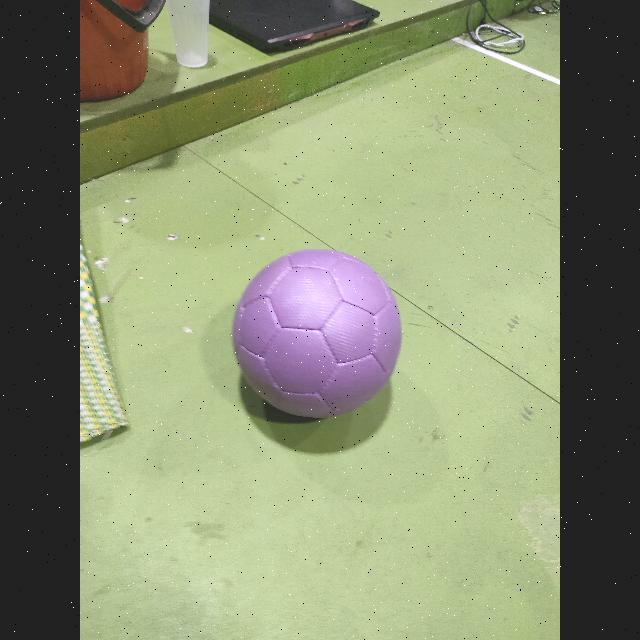P: (233, 249, 401, 416)
